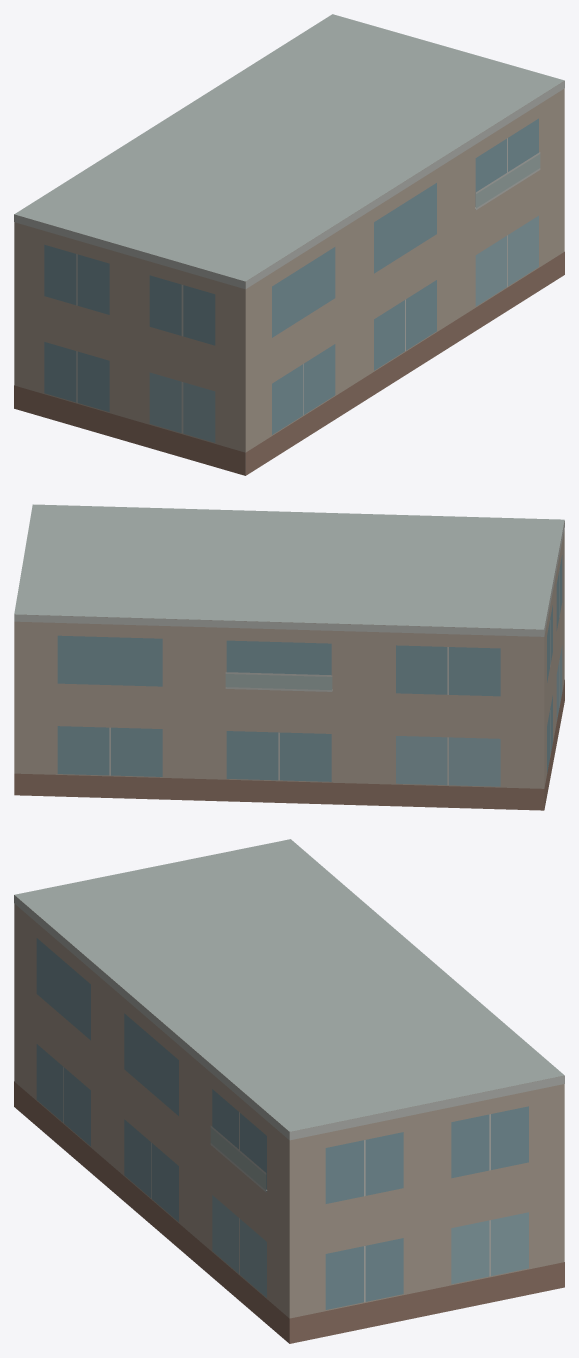
Rendered from survey-upis-32704791.glb.
3 renders of one model, top to bottom at view 1: azimuth 30°, elevation 25°; view 2: azimuth 150°, elevation 25°; view 3: azimuth 270°, elevation 25°, orthographic. The views are drawn at different scales.
Parts seen in each view (by area): view 1: survey-upis-32704791.tmp; view 2: survey-upis-32704791.tmp; view 3: survey-upis-32704791.tmp.
Boxes of the visible parts, x1,y1,x2,y2 form: survey-upis-32704791.tmp: (14, 14, 564, 475); survey-upis-32704791.tmp: (14, 504, 564, 810); survey-upis-32704791.tmp: (14, 839, 564, 1343).
Bounding box in the file's own units: 18.09 × 6.1 × 14.37.
